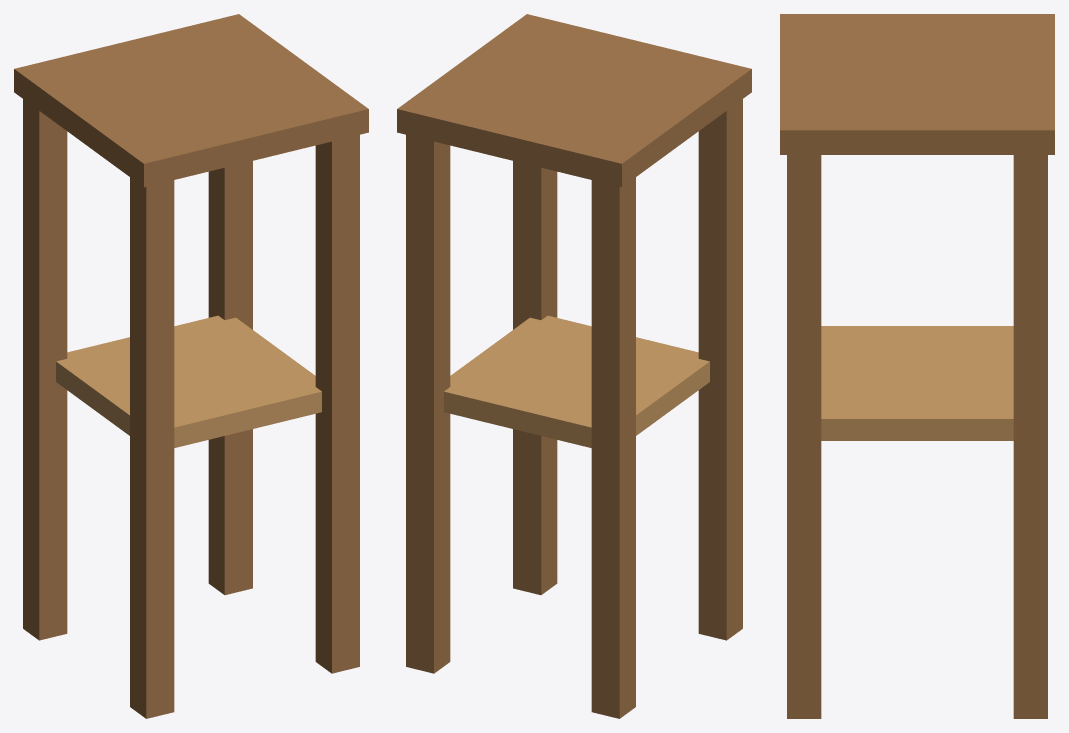
File: plantstandtall.gltf
3 renders of one model, left to right at view 1: azimuth 30°, elevation 25°; view 2: azimuth 150°, elevation 25°; view 3: azimuth 270°, elevation 25°, orthographic. The views are drawn at different scales.
Visible parts, largest first — view 1: PlantStandTall; view 2: PlantStandTall; view 3: PlantStandTall.
Boxes of the visible parts, x1,y1,x2,y2 form: PlantStandTall: [14, 14, 368, 718]; PlantStandTall: [397, 14, 751, 718]; PlantStandTall: [780, 14, 1054, 718].
Bounding box in the file's own units: 0.4 × 0.95 × 0.4.
1 material, 1 textured.
